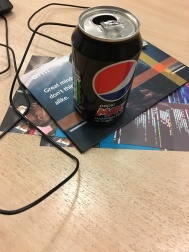can_black: (63, 5, 146, 128)
